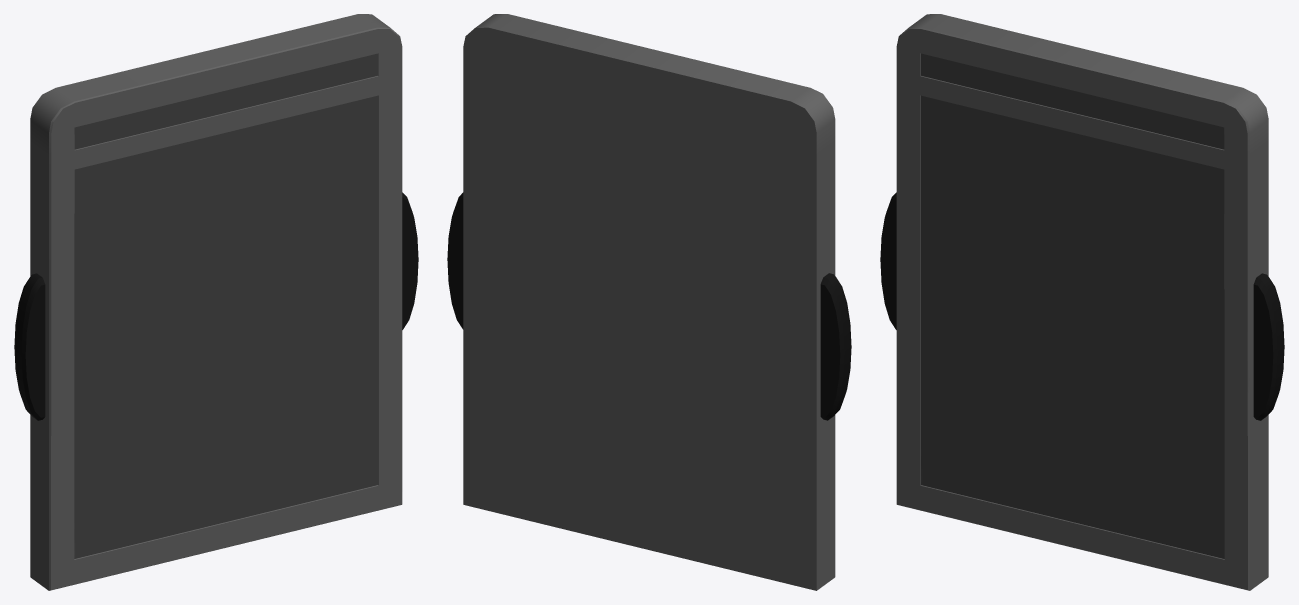
File: pad.FBX
The picture shows the model from 3 angles, left to right: view 1: azimuth 30°, elevation 25°; view 2: azimuth 150°, elevation 25°; view 3: azimuth 330°, elevation 25°; orthographic projection.
Parts seen in each view (by area): view 1: Box002, Cylinder002; view 2: Box002, Cylinder002; view 3: Box002, Cylinder002.
Part boxes in pixels (x1,y1,x2,y2): Box002: (30, 14, 402, 590); Cylinder002: (14, 192, 418, 420); Box002: (463, 14, 835, 590); Cylinder002: (447, 192, 851, 420); Box002: (896, 14, 1268, 590); Cylinder002: (880, 192, 1284, 420).
Size of the model in its own units: 256 by 299 by 22.
